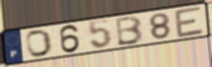5: (85, 18, 114, 50)
6: (58, 24, 81, 54)
8: (146, 12, 172, 40)
B: (115, 14, 145, 47)
E: (173, 5, 206, 40)
O: (25, 28, 54, 58)
